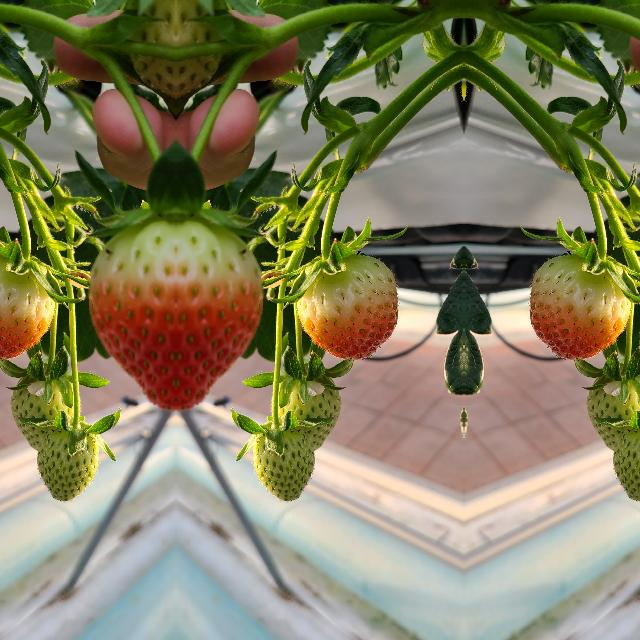Health_25: (256, 430, 312, 500), (38, 430, 94, 500), (292, 368, 338, 450), (12, 368, 58, 450), (588, 368, 634, 450), (614, 430, 640, 499)
Health_75: (175, 196, 261, 414), (89, 196, 175, 414), (297, 254, 397, 358), (529, 254, 629, 358), (0, 253, 53, 358)
